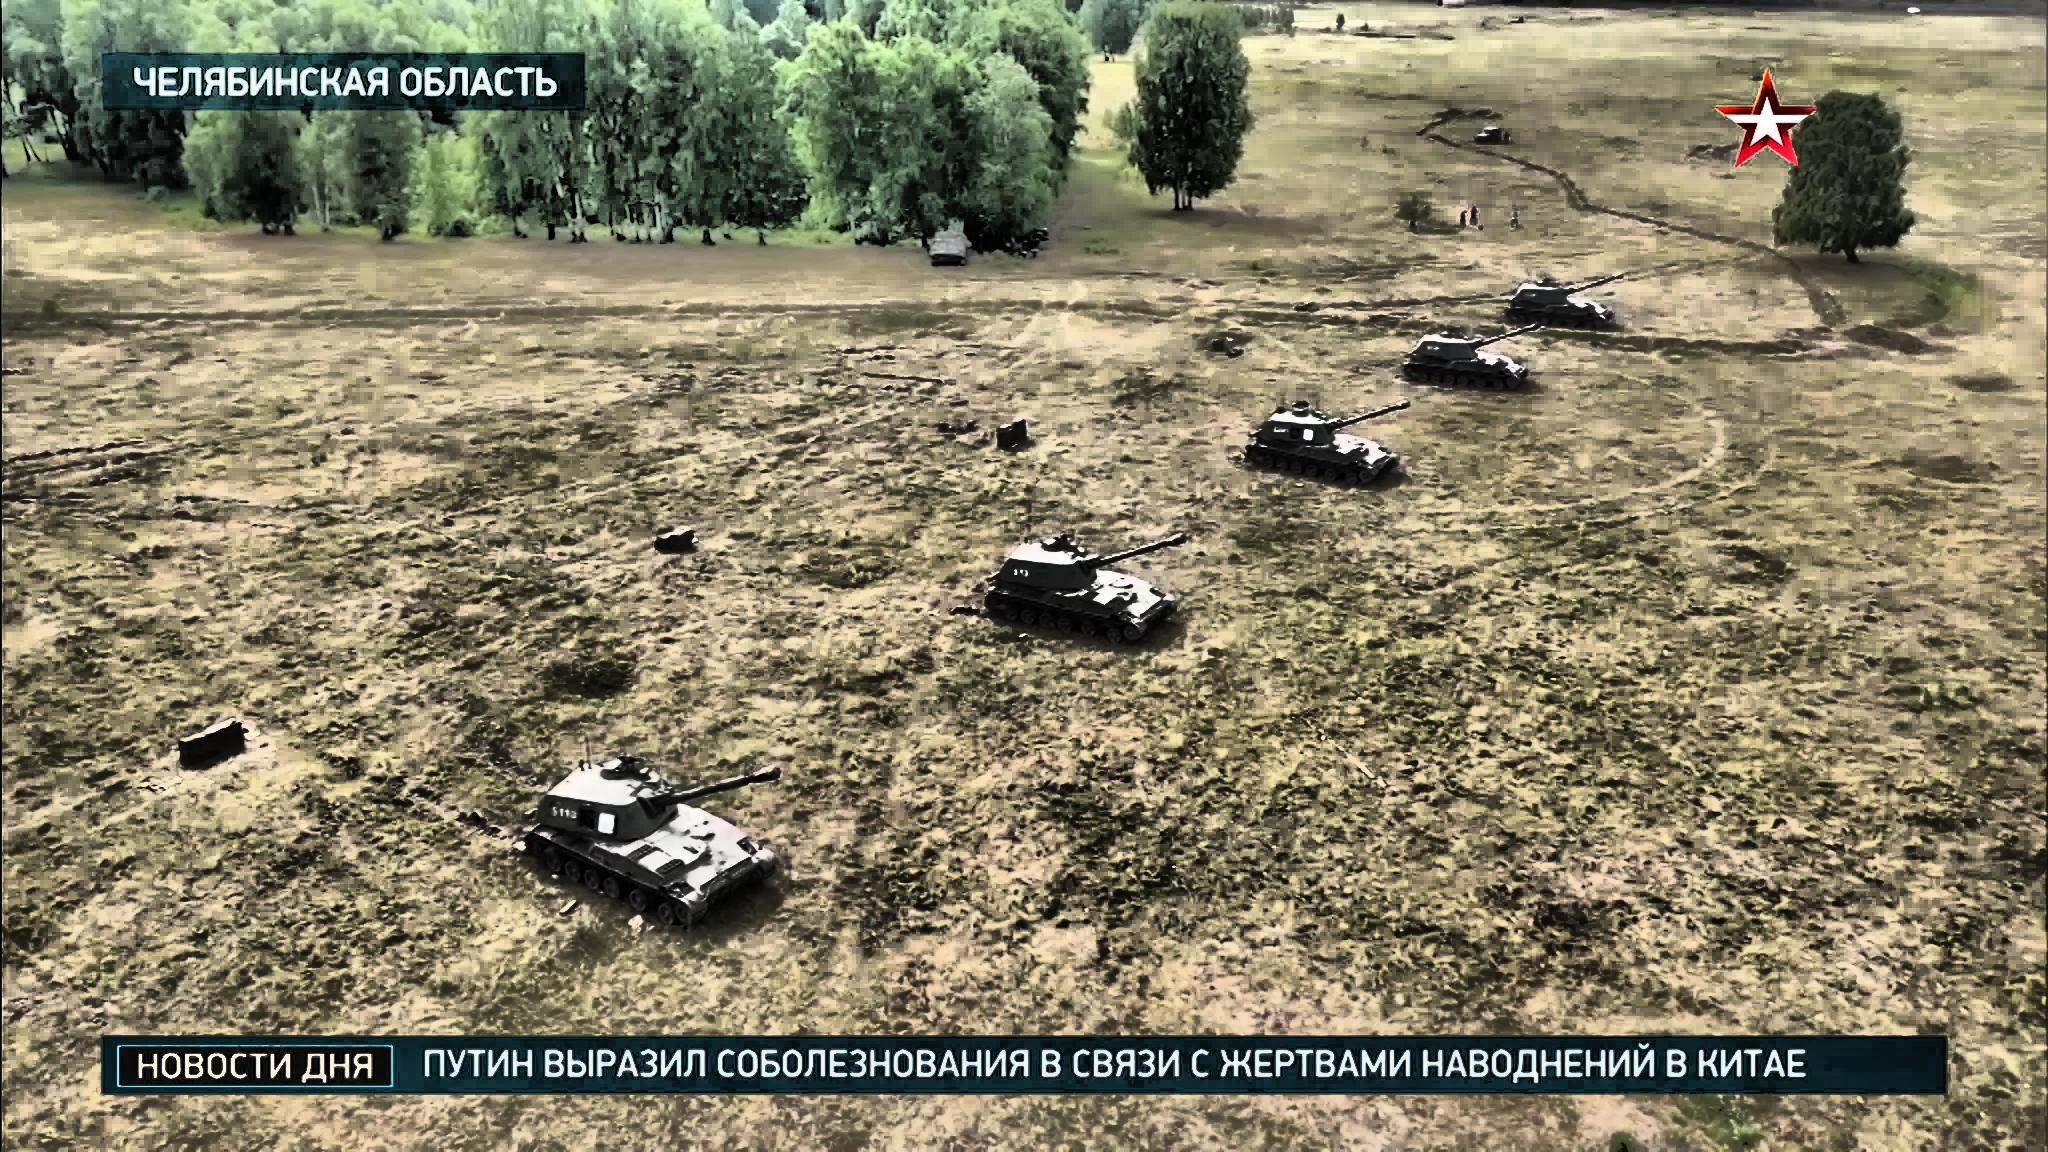military-vehicle: (522, 755, 782, 933), (984, 533, 1184, 651), (1245, 403, 1411, 486), (1405, 324, 1541, 386), (1510, 274, 1624, 328)
